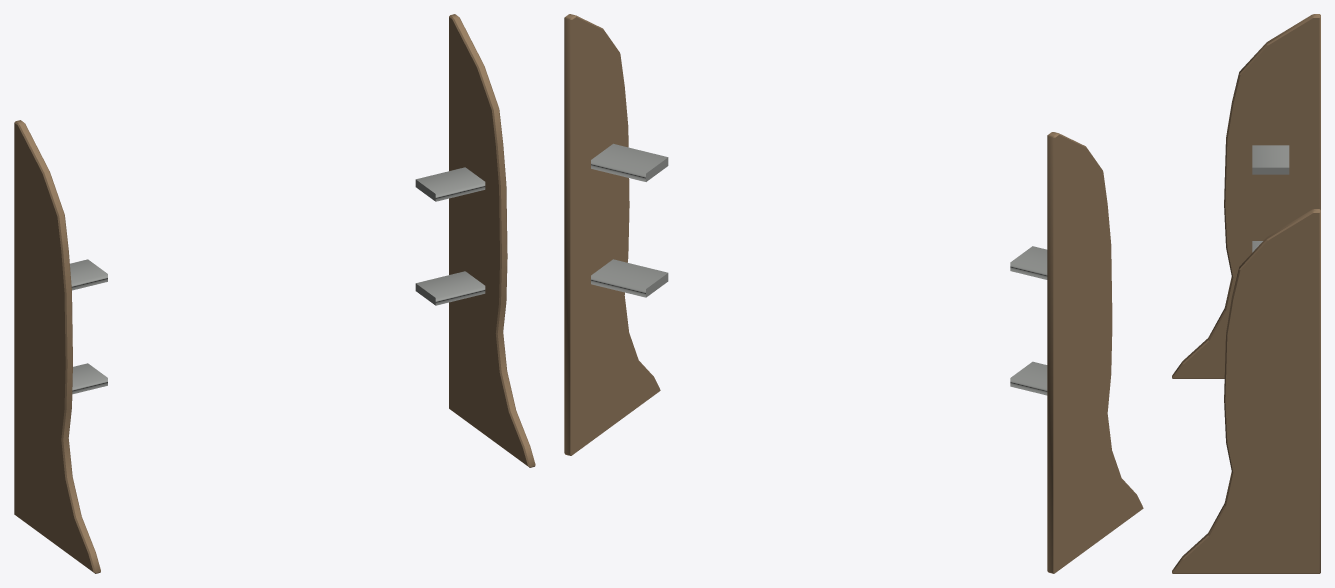
Rendered from Skirting_EndCaps_LOD0.fbx.
The picture shows the model from 3 angles, left to right: view 1: azimuth 30°, elevation 25°; view 2: azimuth 150°, elevation 25°; view 3: azimuth 270°, elevation 25°; orthographic projection. The views are drawn at different scales.
Visible parts, largest first — view 1: LeftCap_LOD0, RightCap_LOD0; view 2: RightCap_LOD0, LeftCap_LOD0; view 3: RightCap_LOD0, LeftCap_LOD0.
Boxes of the visible parts, <box> form: LeftCap_LOD0: <box>14,120,107,573</box>; RightCap_LOD0: <box>415,14,535,467</box>; RightCap_LOD0: <box>564,14,668,455</box>; LeftCap_LOD0: <box>1010,132,1143,573</box>; RightCap_LOD0: <box>1172,209,1320,573</box>; LeftCap_LOD0: <box>1172,14,1320,378</box>.
Bounding box in the file's own units: 0.0712 × 0.0607 × 0.0226.
